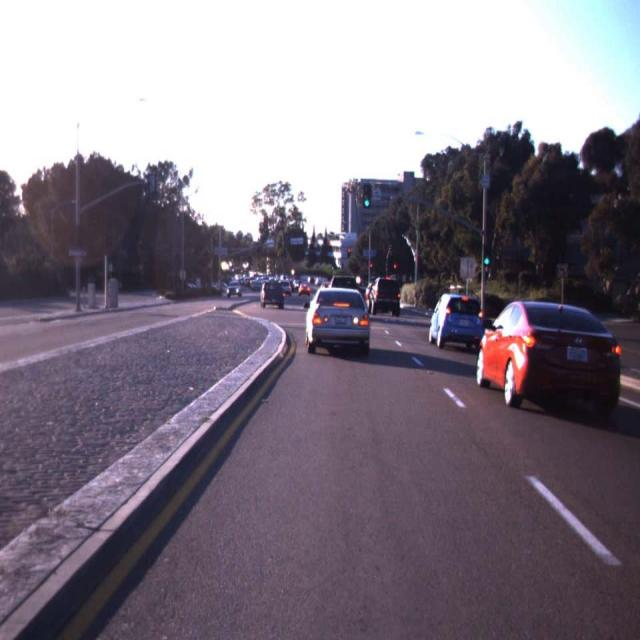yesil: (363, 184, 370, 208), (484, 244, 491, 267)
